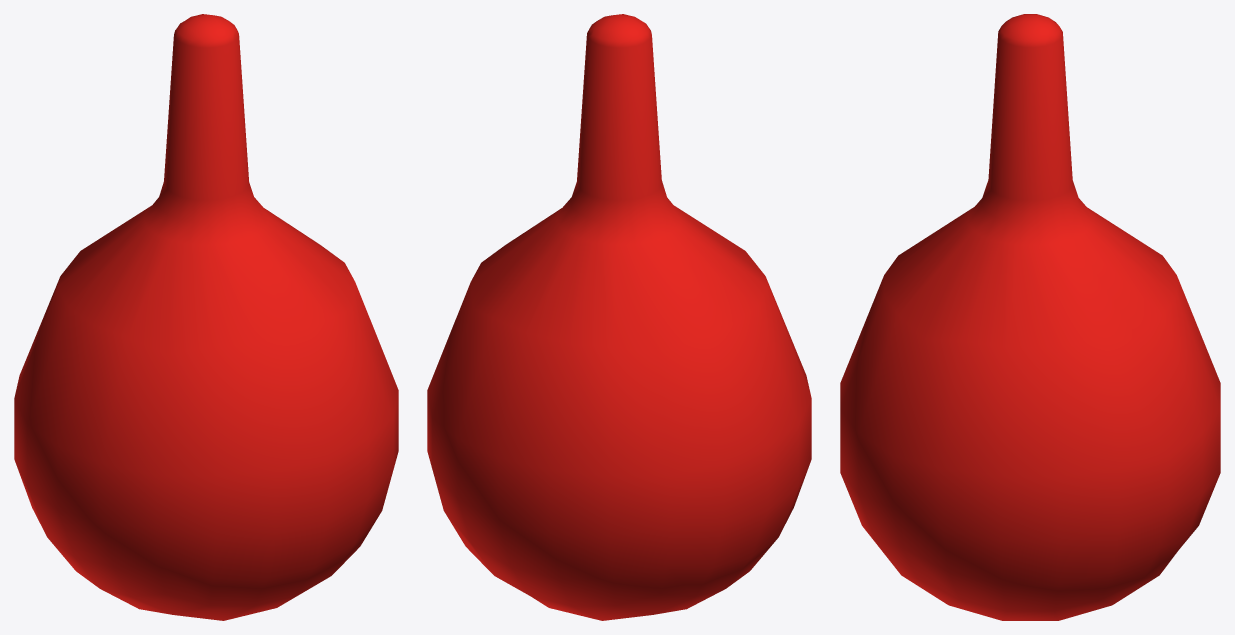
Rendered from Flotteur.fbx.
3 renders of one model, left to right at view 1: azimuth 30°, elevation 25°; view 2: azimuth 150°, elevation 25°; view 3: azimuth 270°, elevation 25°, orthographic.
Visible parts, largest first — view 1: Floteur; view 2: Floteur; view 3: Floteur.
Part boxes in pixels (x1=…): Floteur: x1=14, y1=14, x2=398, y2=620; Floteur: x1=427, y1=14, x2=811, y2=620; Floteur: x1=840, y1=14, x2=1220, y2=620.
Bounding box in the file's own units: 12.51 × 21.12 × 12.51.
